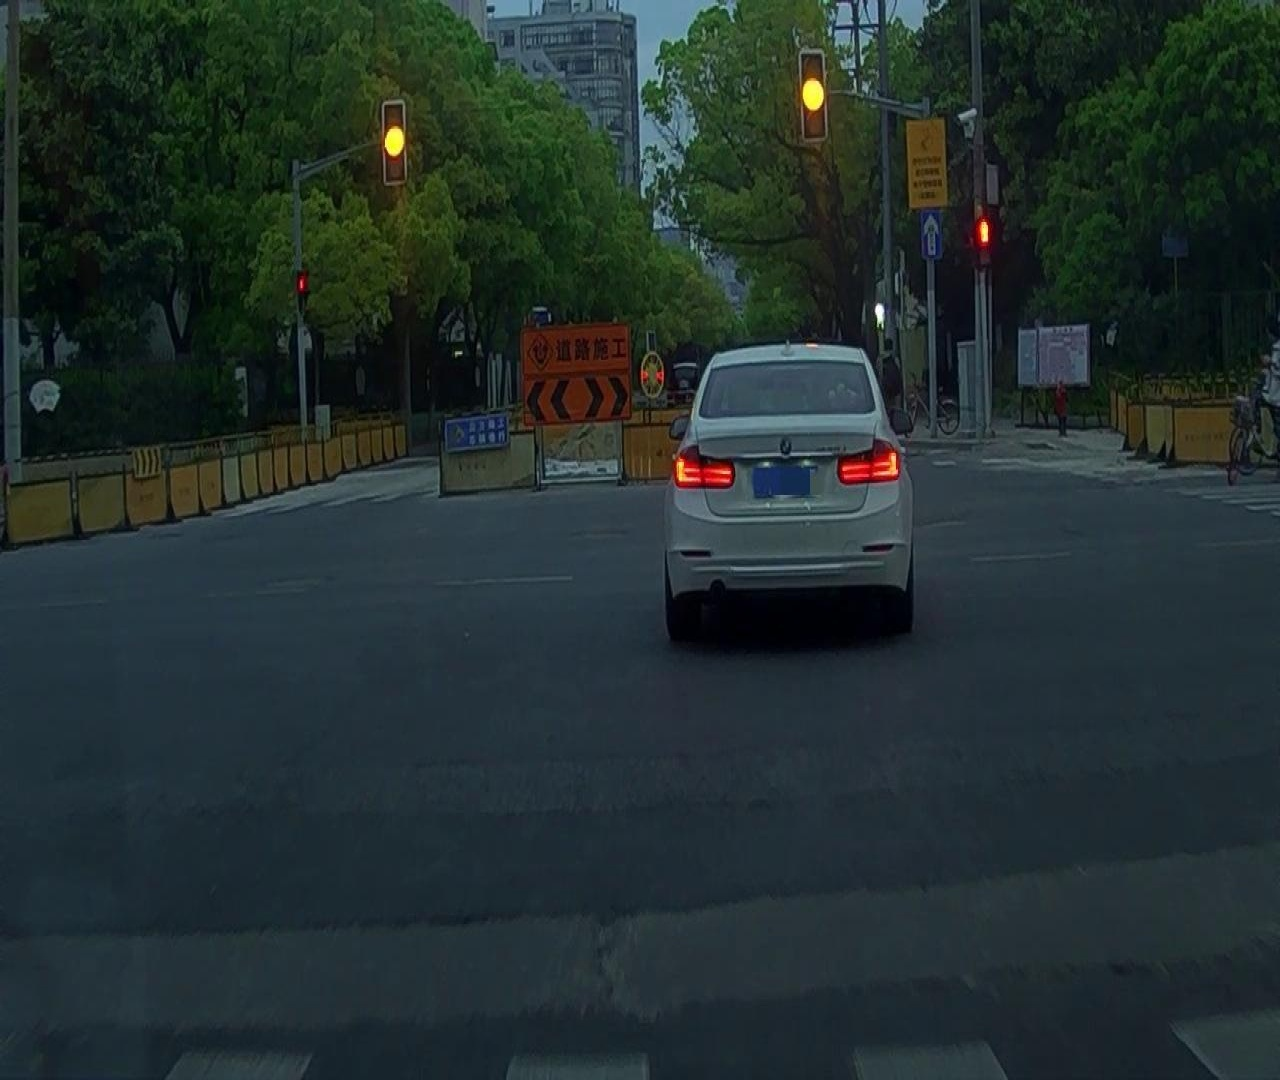yellow: (802, 46, 828, 142), (383, 99, 407, 181)
